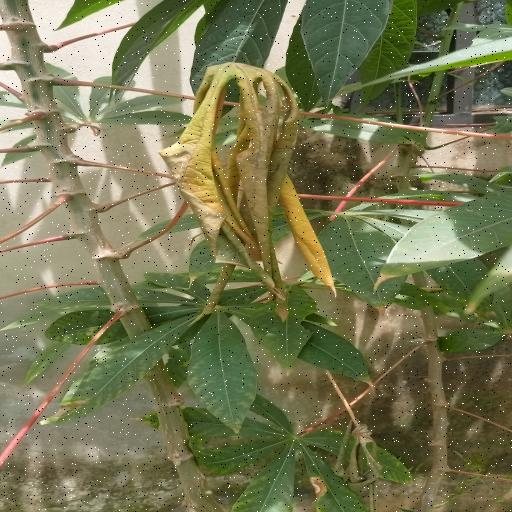Cassava_Root_Rot: (162, 58, 354, 292)
